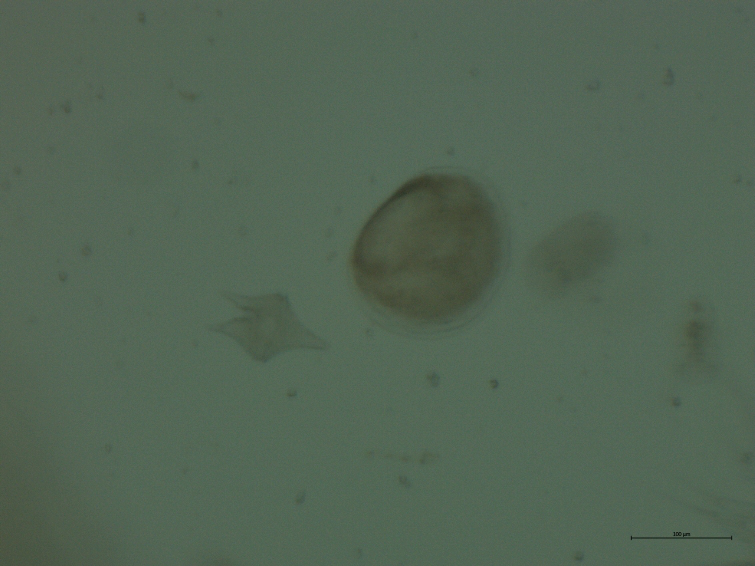oyster: (343, 157, 521, 347)
